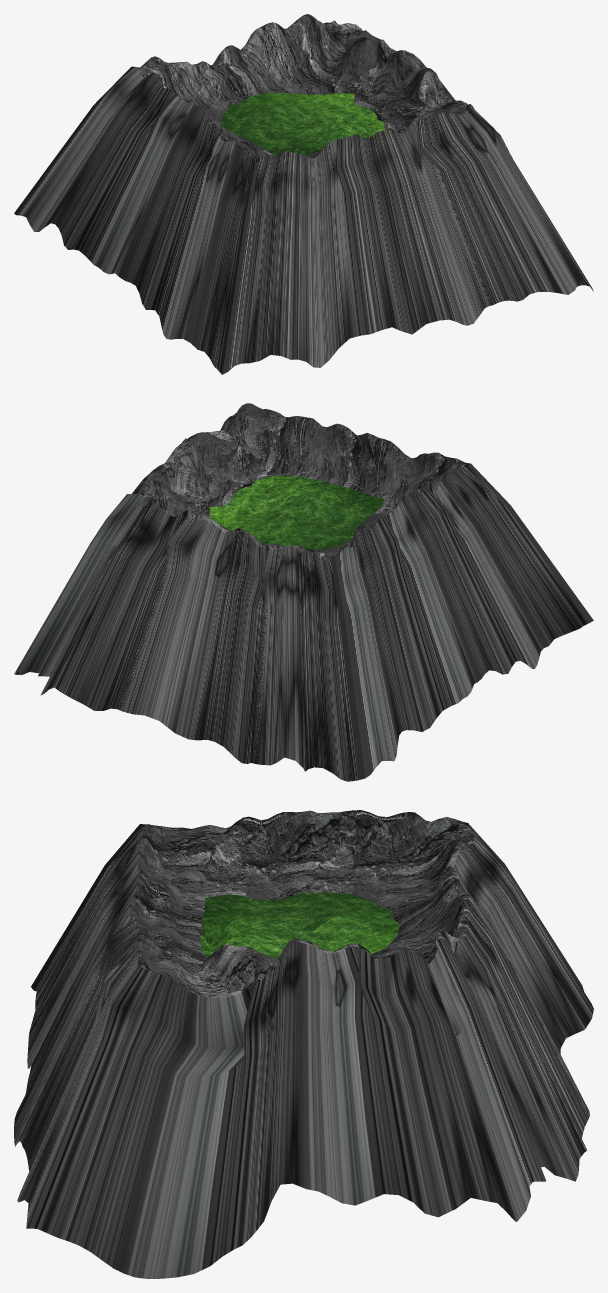
Rendered from newmap.glb.
3 renders of one model, top to bottom at view 1: azimuth 30°, elevation 25°; view 2: azimuth 150°, elevation 25°; view 3: azimuth 270°, elevation 25°, orthographic. The views are drawn at different scales.
Parts seen in each view (by area): view 1: Plane.009, Plane; view 2: Plane.009, Plane; view 3: Plane.009, Plane.
Boxes of the visible parts, <box> form: Plane.009: <box>14,14,593,374</box>; Plane: <box>220,92,385,154</box>; Plane.009: <box>14,403,593,781</box>; Plane: <box>209,475,383,549</box>; Plane.009: <box>14,810,593,1278</box>; Plane: <box>200,892,398,958</box>.
Bounding box in the file's own units: 64.49 × 33.77 × 64.32.
Materials: 2 (2 with a texture image).
